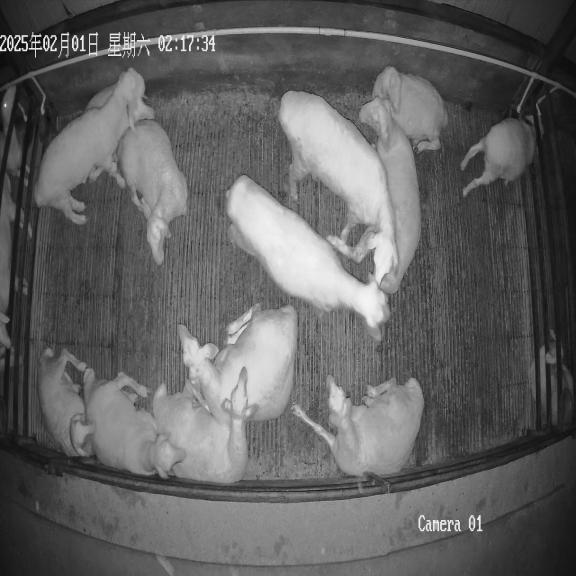lying: (178, 304, 297, 422), (292, 376, 424, 477), (359, 96, 421, 293), (152, 369, 258, 484), (86, 374, 186, 478), (117, 119, 188, 264), (371, 66, 448, 152), (38, 348, 93, 457), (327, 227, 377, 263), (86, 84, 116, 110), (133, 96, 154, 124)
stand: (226, 175, 389, 339), (279, 91, 396, 283), (34, 68, 144, 225), (460, 118, 536, 197)
